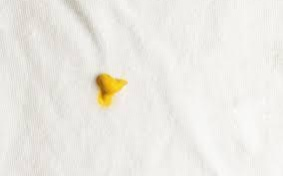mustard: (93, 70, 124, 104)
